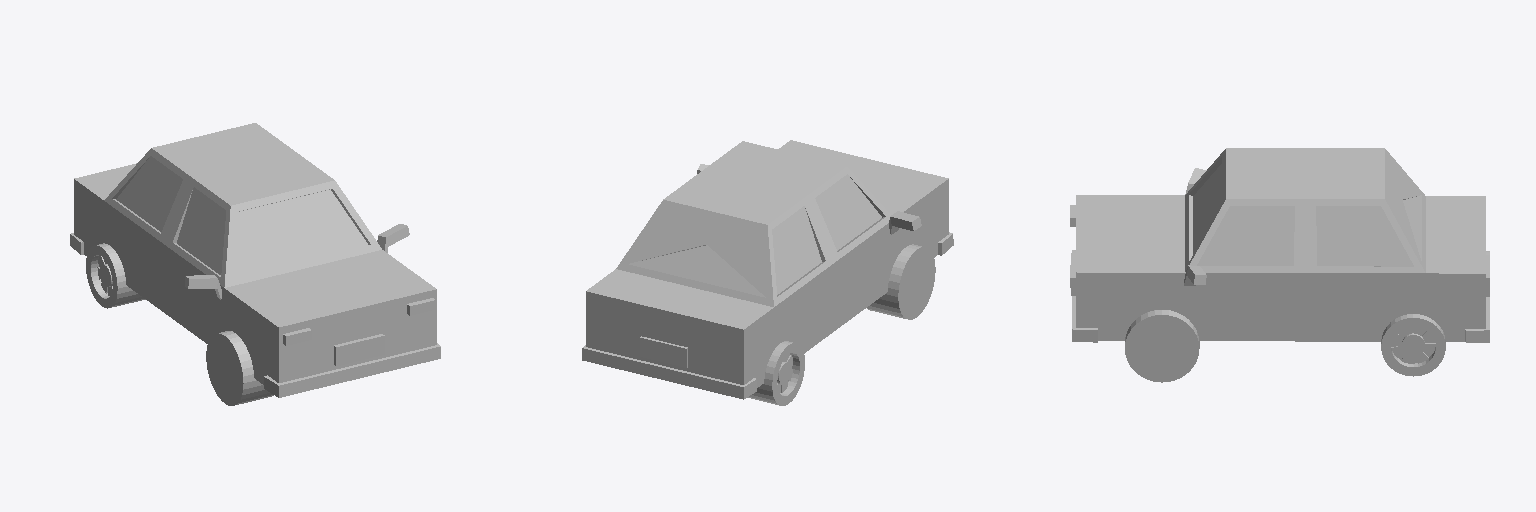
The model's file is car_tre.obj.
3 views of the same model, side by side, from view 1: azimuth 30°, elevation 25°; view 2: azimuth 150°, elevation 25°; view 3: azimuth 270°, elevation 25° (orthographic).
Parts seen in each view (by area): view 1: Cube, Cylinder, Cylinder.004, Cube.003, Cube.001, Cube.002; view 2: Cube, Cylinder, Cylinder.004, Cube.004, Cube.001; view 3: Cube, Cylinder, Cylinder.004, Cube.001.
Part boxes in pixels (left/top/right/bottom): Cube: left=70, top=123, right=440, bottom=397; Cylinder: left=206, top=331, right=273, bottom=405; Cylinder.004: left=86, top=243, right=145, bottom=308; Cube.003: left=334, top=334, right=384, bottom=365; Cube.001: left=185, top=224, right=409, bottom=299; Cube.002: left=283, top=298, right=435, bottom=345; Cube: left=582, top=140, right=953, bottom=399; Cylinder: left=867, top=244, right=935, bottom=319; Cylinder.004: left=747, top=341, right=804, bottom=405; Cube.004: left=640, top=336, right=687, bottom=367; Cube.001: left=697, top=164, right=921, bottom=234; Cube: left=1072, top=148, right=1489, bottom=342; Cylinder: left=1125, top=310, right=1199, bottom=382; Cylinder.004: left=1381, top=314, right=1445, bottom=376; Cube.001: left=1184, top=168, right=1206, bottom=285.
Bounding box in the file's own units: 4.51 × 3.22 × 7.41.